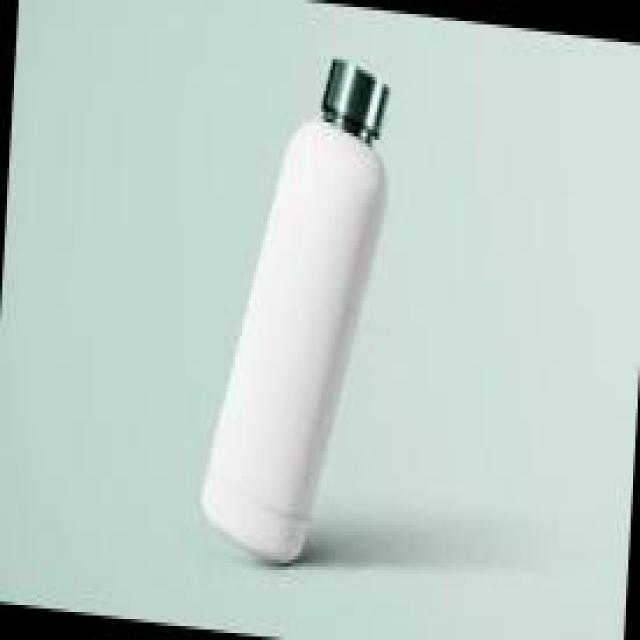bottle: (186, 42, 396, 577)
